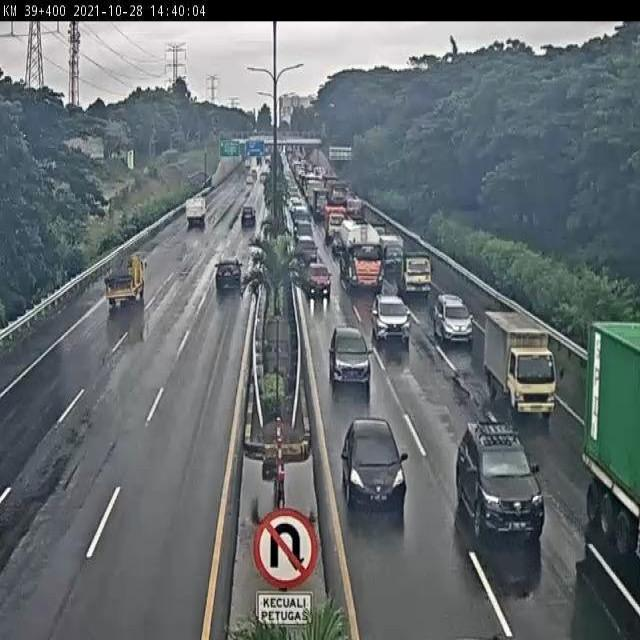big truck: (339, 217, 381, 288)
car: (451, 417, 540, 527), (341, 420, 407, 503), (329, 328, 369, 381), (372, 292, 411, 340), (434, 293, 473, 339), (214, 257, 245, 292), (306, 261, 332, 291)
mid truck: (238, 206, 255, 226)
small truck: (486, 312, 557, 413), (105, 255, 146, 308), (398, 248, 434, 295), (380, 233, 405, 275)
